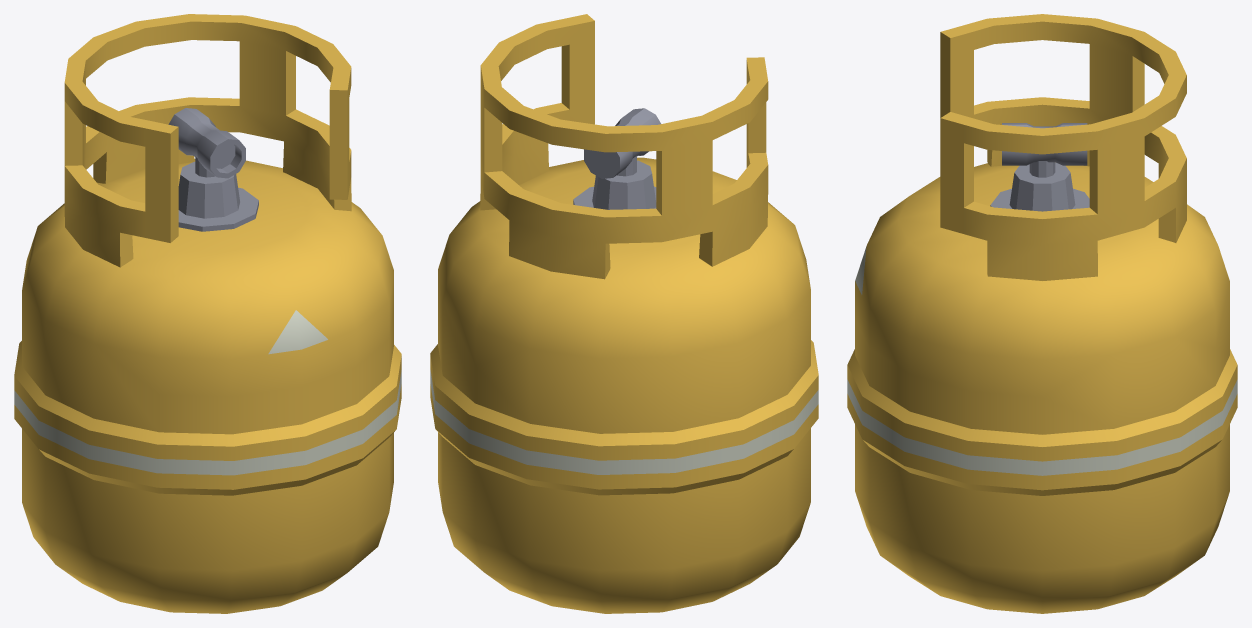
Rendered from quaternius-toon-shooter-game-gastank.glb.
3 renders of one model, left to right at view 1: azimuth 30°, elevation 25°; view 2: azimuth 150°, elevation 25°; view 3: azimuth 270°, elevation 25°, orthographic.
Parts seen in each view (by area): view 1: GasTank; view 2: GasTank; view 3: GasTank.
Boxes of the visible parts, x1,y1,x2,y2 form: GasTank: (14, 14, 401, 613); GasTank: (430, 14, 818, 613); GasTank: (847, 14, 1237, 613).
Size of the model in its own units: 1.01 by 1.39 by 1.01.
